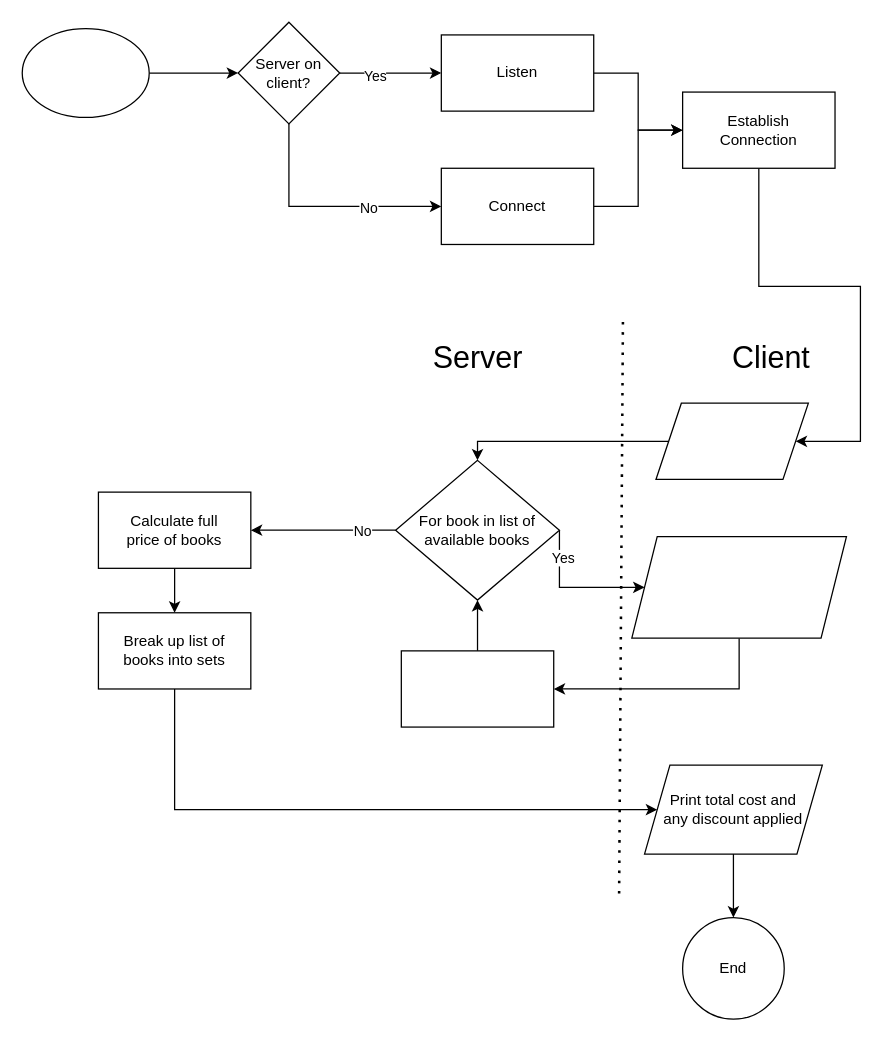
Image size: 893x1041. Some labels were removed from this diagram. The centre of each missing label's shape, as x and y in pixels:
"Add to list of books" goes at pixel 477 688.
"App starts" goes at pixel 85 72.
"Input: how many copies of book do you want?" goes at pixel 738 586.
"Print welcome screen" goes at pixel 731 440.
